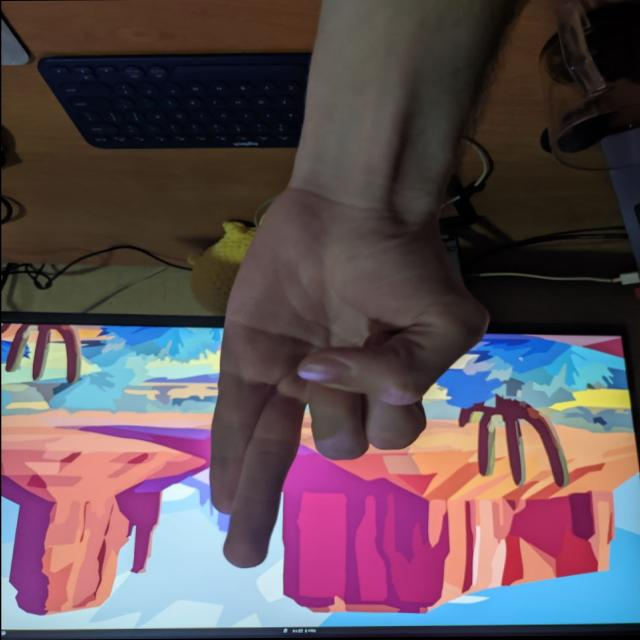i: (198, 214, 468, 584)
